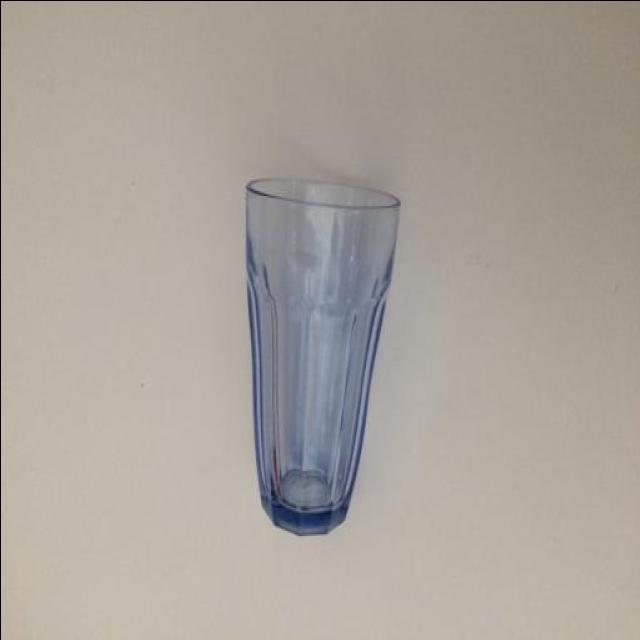glass: (230, 137, 431, 555)
